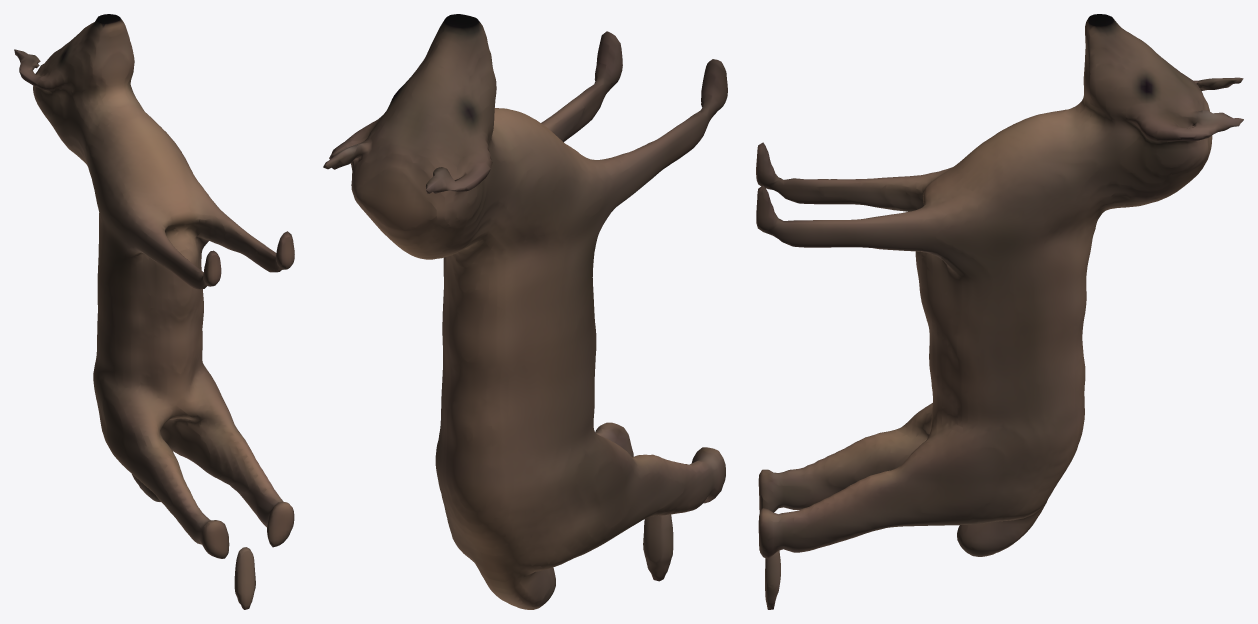
The picture shows the model from 3 angles, left to right: view 1: azimuth 30°, elevation 25°; view 2: azimuth 150°, elevation 25°; view 3: azimuth 270°, elevation 25°; orthographic projection. The views are drawn at different scales.
Visible parts, largest first — view 1: plyFile; view 2: plyFile; view 3: plyFile.
Boxes of the visible parts, x1=… form: plyFile: x1=14, y1=14, x2=294, y2=609; plyFile: x1=323, y1=14, x2=727, y2=609; plyFile: x1=756, y1=14, x2=1243, y2=609.
Size of the model in its own units: 43.52 by 197 by 148.
